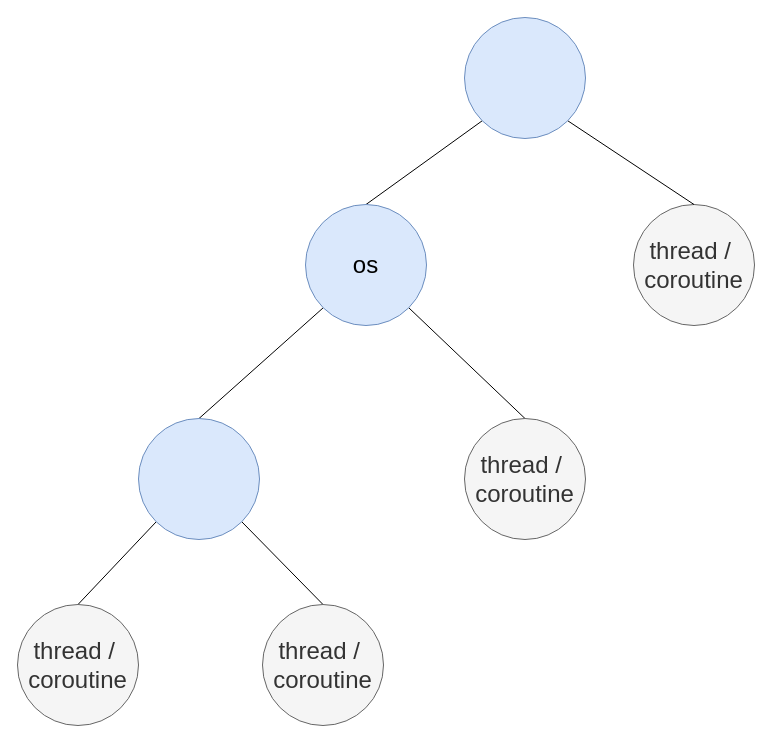
Image size: 772x743. Some labels were removed from this diagram. Here are the shapes that lost their labels. From the top down, the centre of each, then its label:
At (x=525, y=77): "hypervisor".
At (x=199, y=479): "process".
